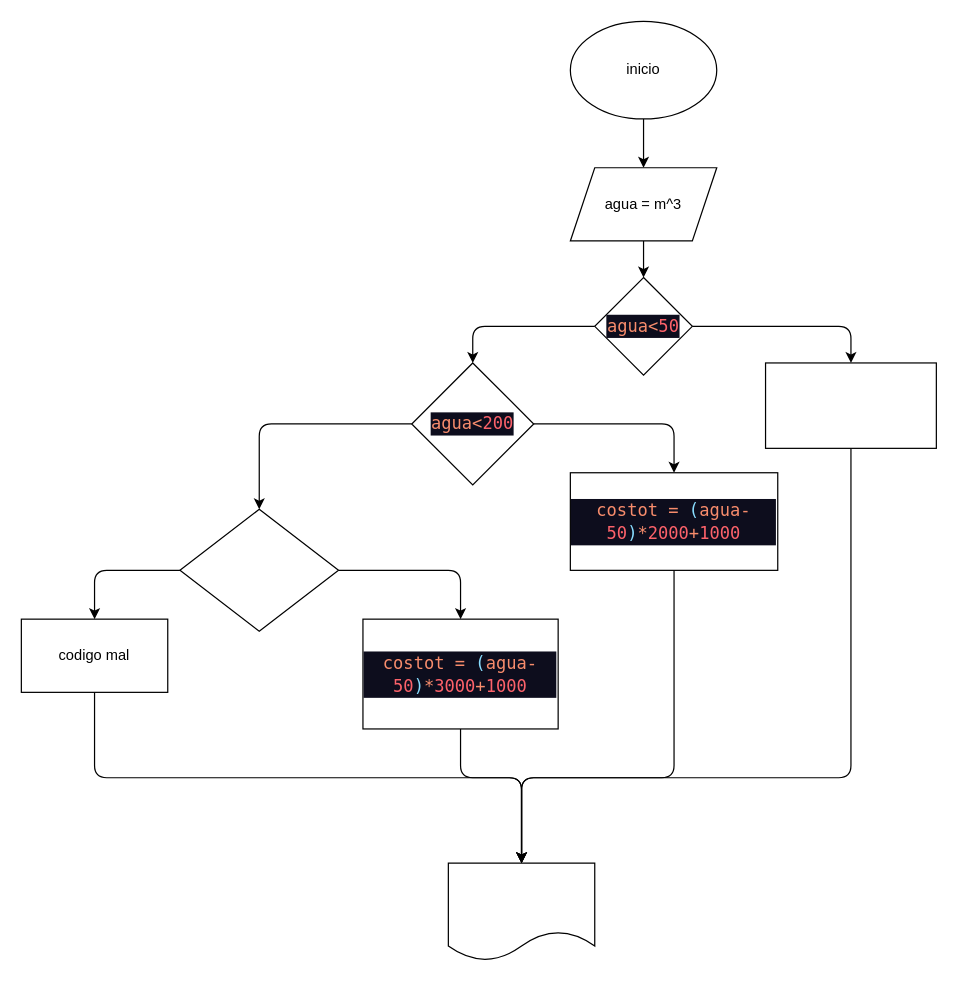
Image size: 958x982. Some labels were removed from this diagram. The shapes that lost their labels are listed below. From the top down, each one's box as (x1, y1, x2, y2) in pixels, then its label:
(764, 362, 936, 448): costot = " Debe pagar 1000 "
(179, 508, 339, 631): if( agua>= 200 )
(447, 862, 595, 961): costot
